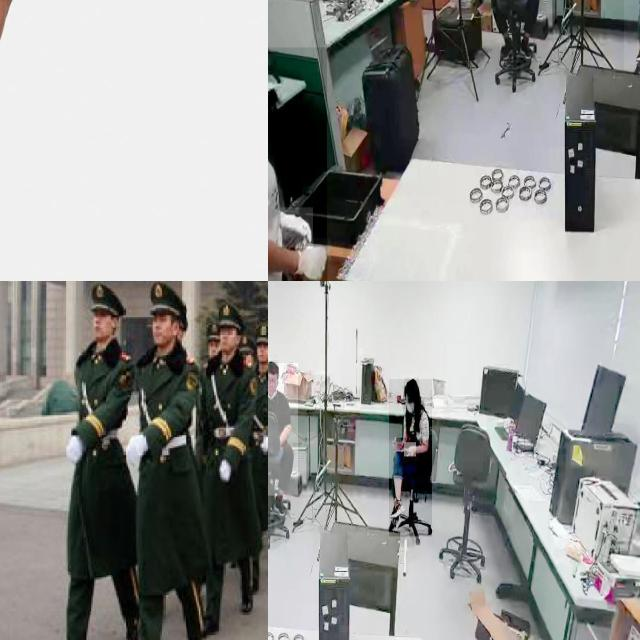face_mask: (402, 397, 416, 415)
face_nomask: (146, 314, 172, 346), (90, 308, 111, 346), (219, 329, 240, 354), (257, 343, 268, 364), (268, 373, 278, 394)
hand_glove: (294, 237, 330, 281), (281, 208, 313, 248), (124, 434, 146, 466), (63, 436, 82, 460), (216, 458, 231, 478), (260, 435, 268, 452)
hand_noglove: (404, 442, 416, 458), (396, 438, 406, 451)
head_nohelmet: (404, 378, 420, 392), (268, 360, 279, 374)
person: (66, 281, 141, 640), (139, 281, 208, 640), (198, 308, 255, 611), (268, 47, 327, 281), (389, 379, 433, 537), (246, 325, 268, 591), (488, 0, 545, 87), (268, 363, 298, 496)
shoes: (497, 32, 515, 60), (272, 488, 286, 522), (517, 33, 533, 60), (388, 494, 404, 521), (179, 625, 205, 640), (632, 36, 640, 66)
